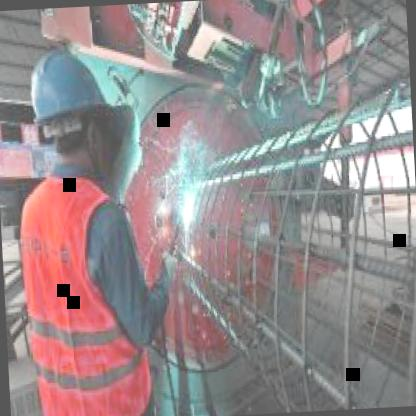helmet: (16, 35, 123, 194)
